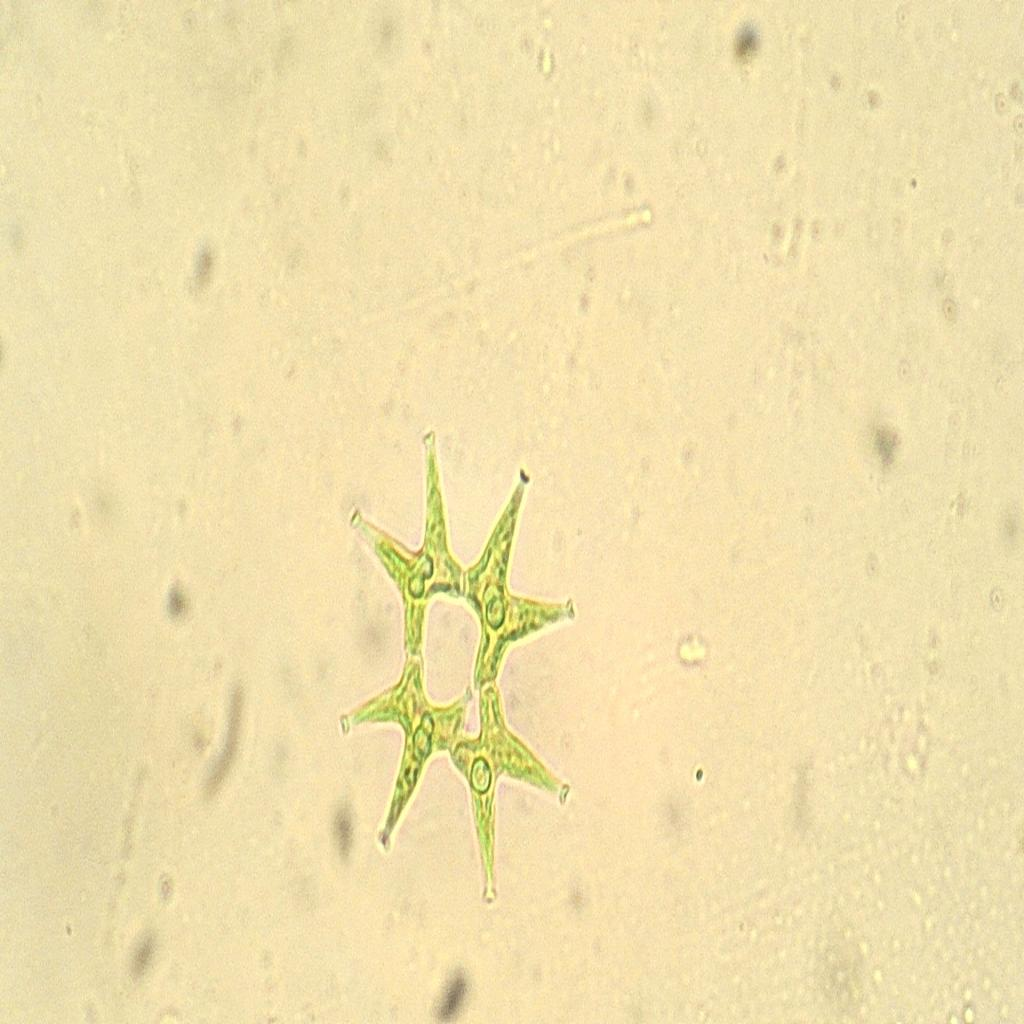Pediastrum_CF: (314, 412, 594, 929)
